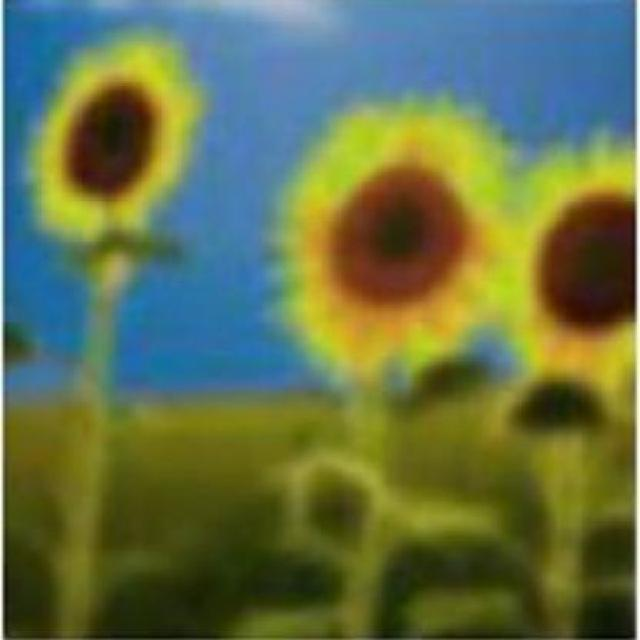sunflower: (282, 103, 520, 369), (26, 25, 211, 262), (517, 120, 640, 380)
